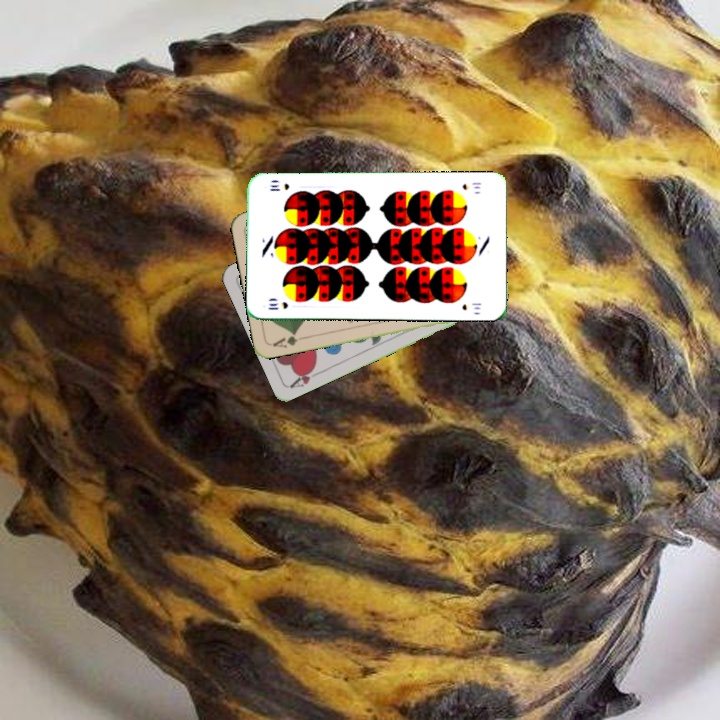GA: (269, 328, 308, 350)
HA: (287, 362, 325, 391)
S10: (264, 298, 290, 312), (459, 178, 483, 192)
